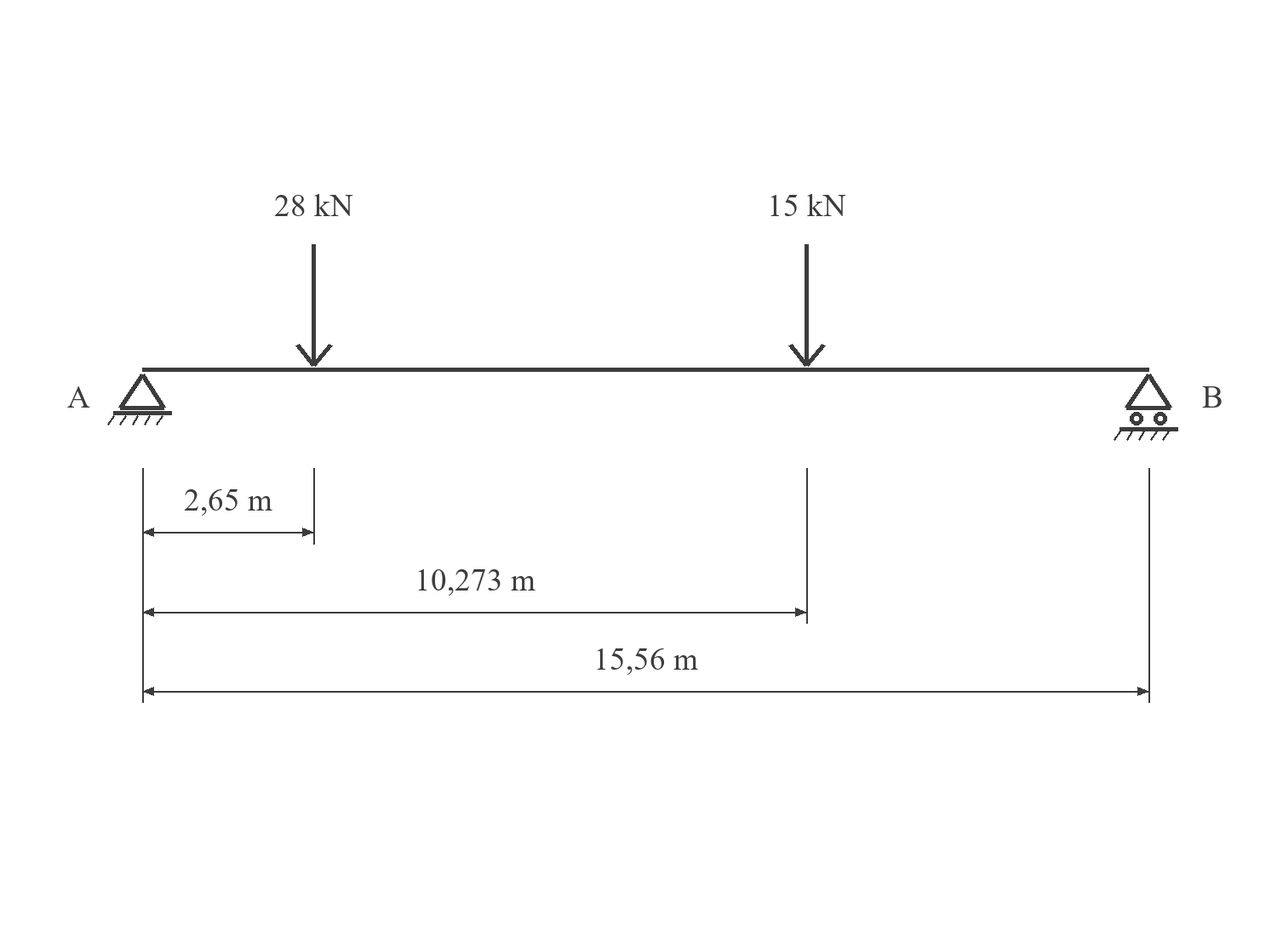pin_support: (107, 374, 172, 425)
point_load: (295, 244, 333, 367), (788, 244, 826, 367)
roller_support: (1114, 374, 1178, 441)
